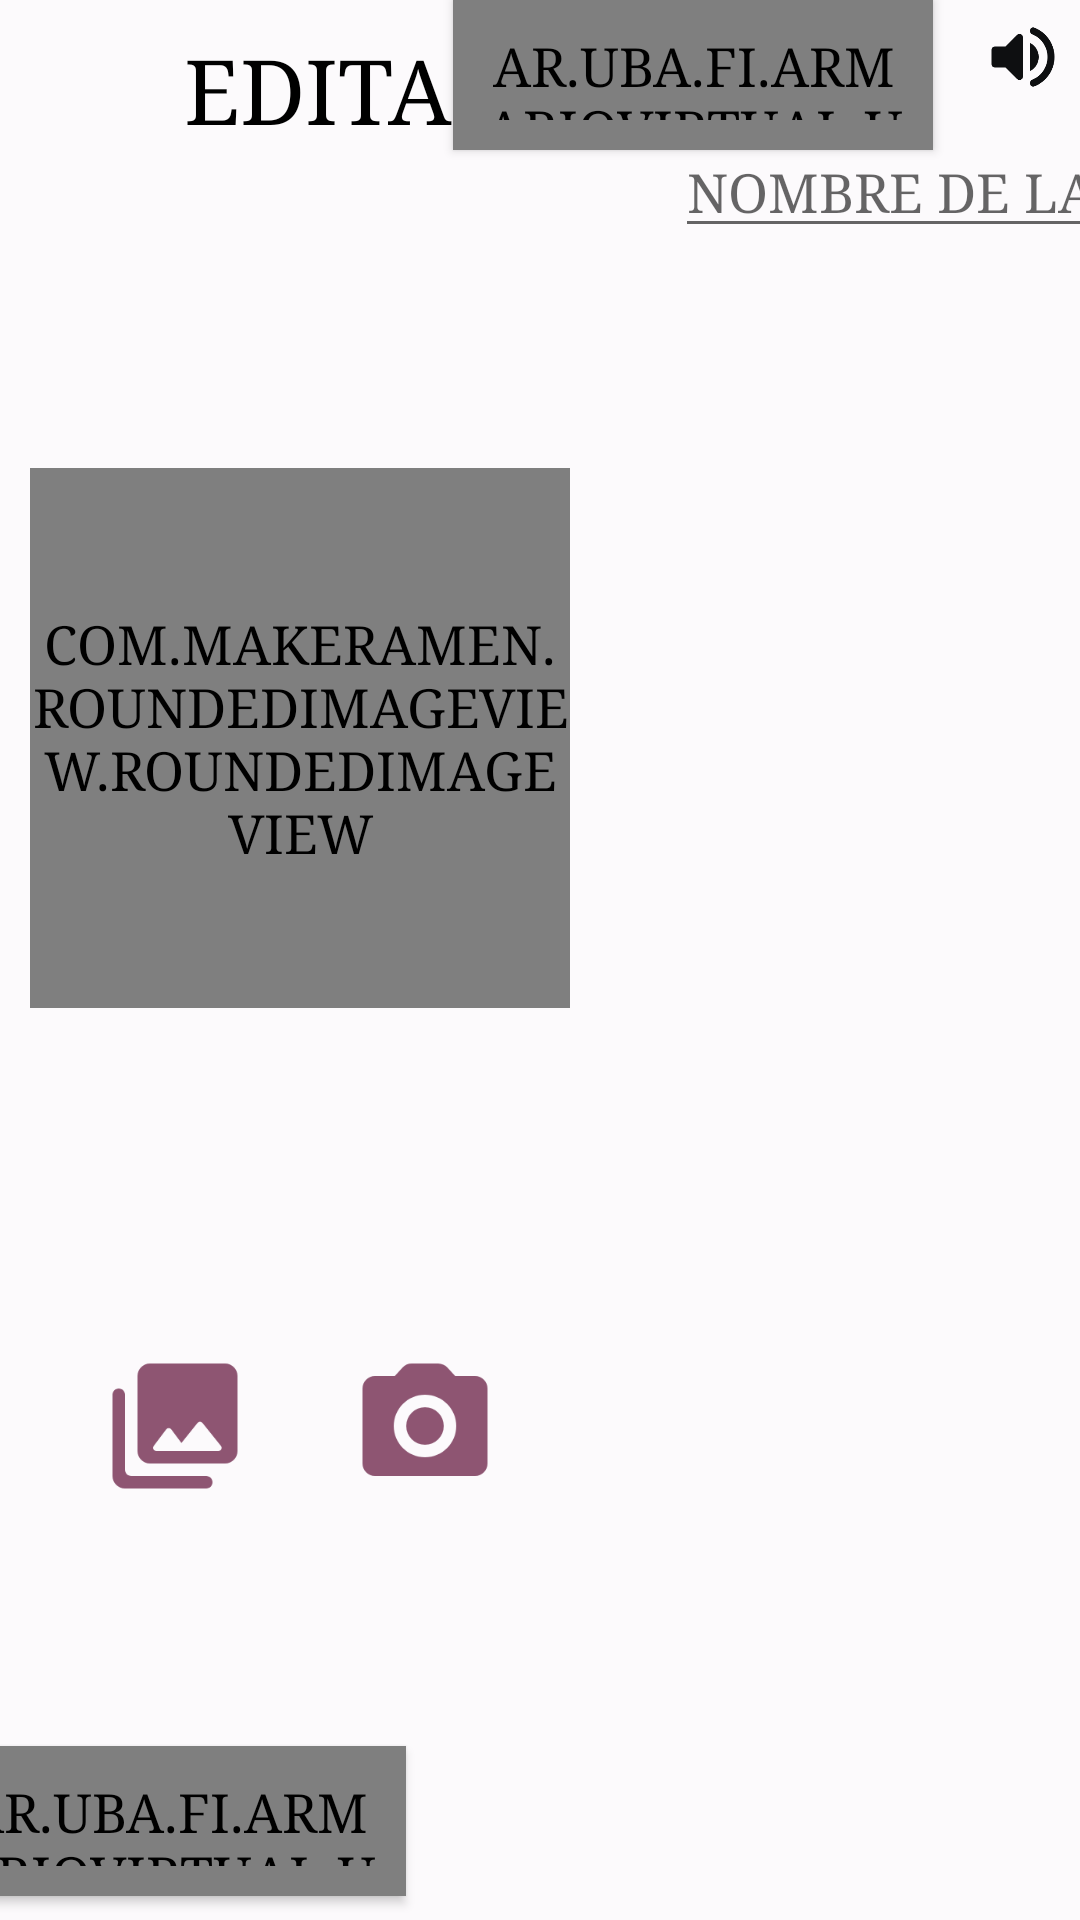

Icons on this 1080 × 1920 Android screen, each with the point to tap as (x=x, y=y):
Seleccionar imagen: (x=175, y=1426)
Sonido: (x=1023, y=57)
Tomar fotografía: (x=425, y=1419)
